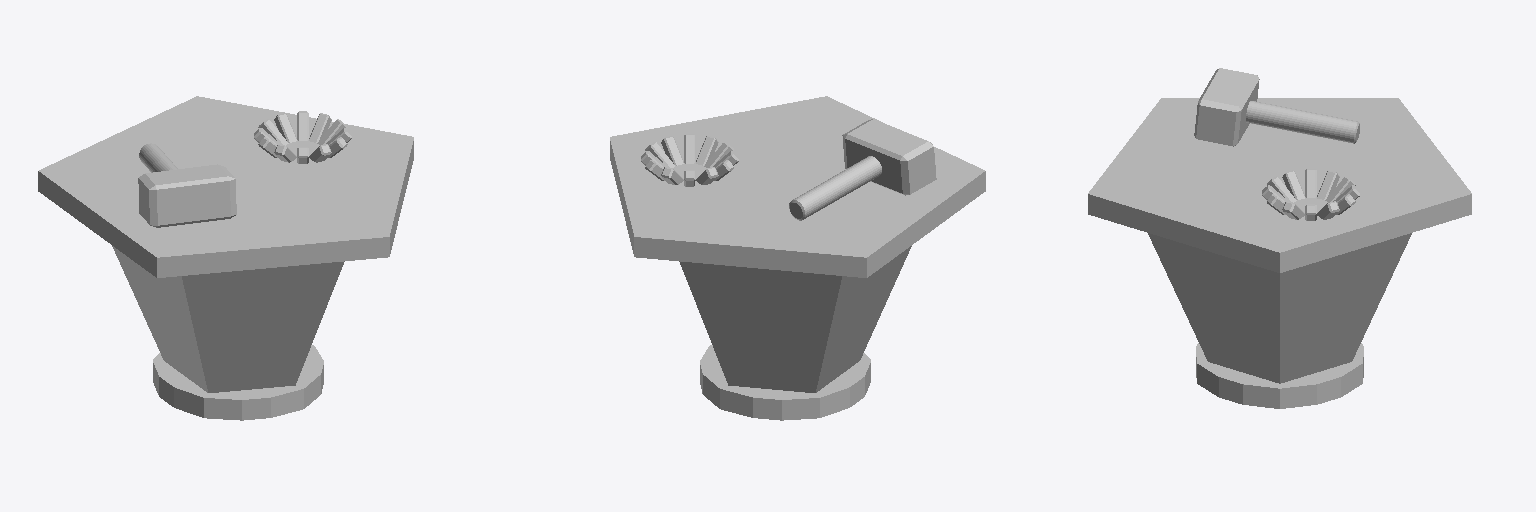
The model's file is forge.obj.
3 renders of one model, left to right at view 1: azimuth 30°, elevation 25°; view 2: azimuth 150°, elevation 25°; view 3: azimuth 270°, elevation 25°, orthographic.
Visible parts, largest first — view 1: Icosphere, Cube_Cube.001, Cube.001_Cube.004; view 2: Icosphere, Cube_Cube.001, Cube.001_Cube.004; view 3: Icosphere, Cube_Cube.001, Cube.001_Cube.004.
Boxes of the visible parts, x1=… form: Icosphere: x1=38, y1=96, x2=413, y2=420; Cube_Cube.001: x1=138, y1=143, x2=236, y2=227; Cube.001_Cube.004: x1=254, y1=111, x2=351, y2=163; Icosphere: x1=610, y1=96, x2=985, y2=420; Cube_Cube.001: x1=789, y1=119, x2=936, y2=220; Cube.001_Cube.004: x1=641, y1=134, x2=738, y2=186; Icosphere: x1=1088, y1=98, x2=1471, y2=408; Cube_Cube.001: x1=1194, y1=68, x2=1359, y2=146; Cube.001_Cube.004: x1=1262, y1=169, x2=1359, y2=220.
Size of the model in its own units: 1.62 by 1.22 by 1.7.